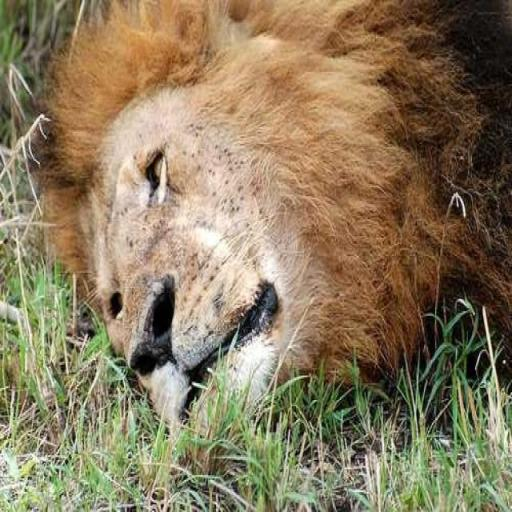Lion: (24, 0, 511, 445)
